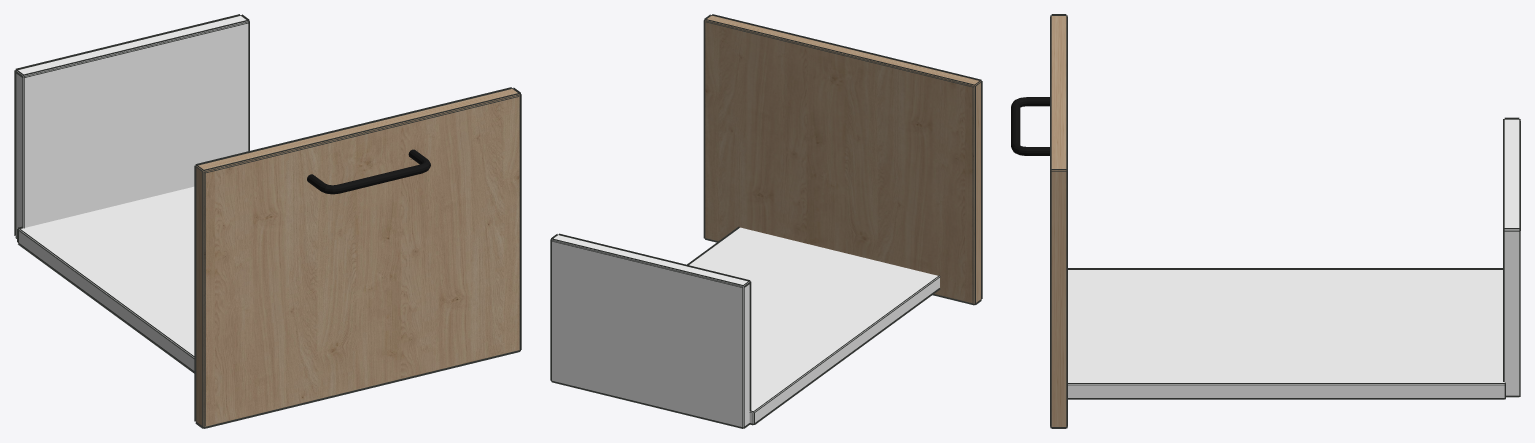
File: skuff5.glb
The picture shows the model from 3 angles, left to right: view 1: azimuth 30°, elevation 25°; view 2: azimuth 150°, elevation 25°; view 3: azimuth 270°, elevation 25°; orthographic projection. The views are drawn at different scales.
Size of the model in its own units: 401 by 311 by 554.
Materials: 7 (4 with a texture image).
